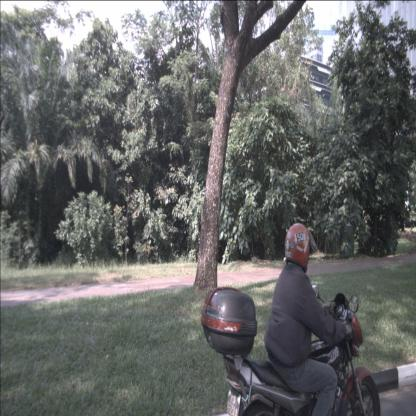vehicle-motorcycle: (200, 220, 380, 416)
